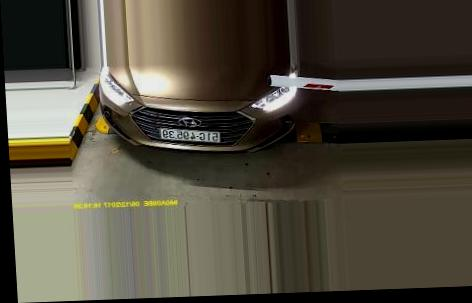License_Plate: (162, 125, 222, 146)
